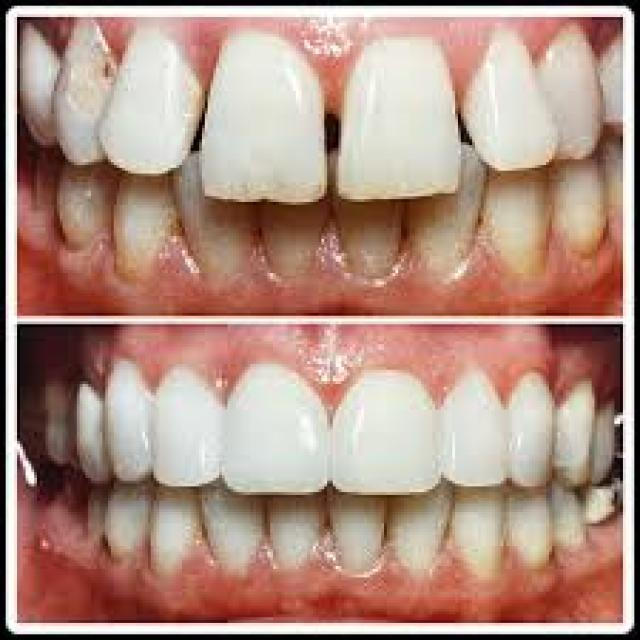tooth: (330, 17, 464, 211), (204, 26, 336, 210), (216, 358, 336, 498), (324, 364, 444, 498), (461, 29, 566, 180), (100, 23, 199, 168), (156, 150, 262, 282), (432, 364, 512, 498), (409, 142, 486, 279), (145, 367, 228, 489), (85, 356, 162, 484), (108, 151, 182, 284), (256, 154, 333, 278), (483, 154, 552, 282), (338, 157, 407, 273), (381, 475, 455, 575), (495, 472, 560, 572), (148, 481, 213, 577), (321, 475, 390, 560), (447, 481, 506, 577), (512, 358, 552, 498), (199, 484, 267, 566), (267, 486, 330, 552)
